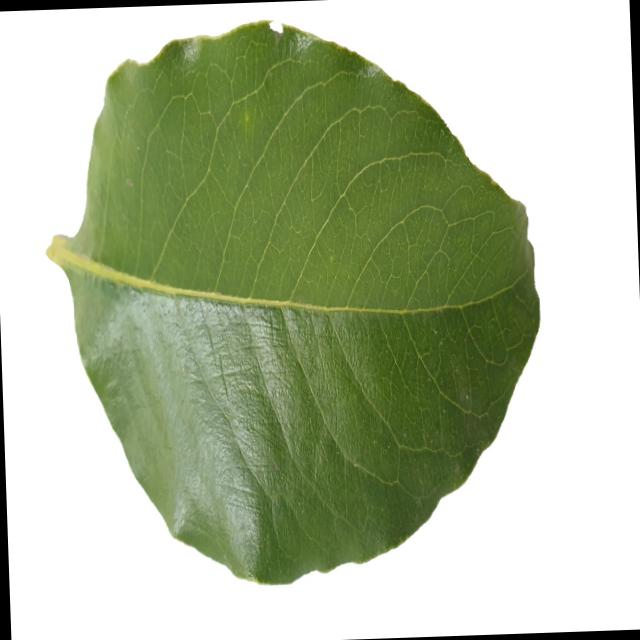Medicinal-Sandalwood: (36, 6, 550, 595)
